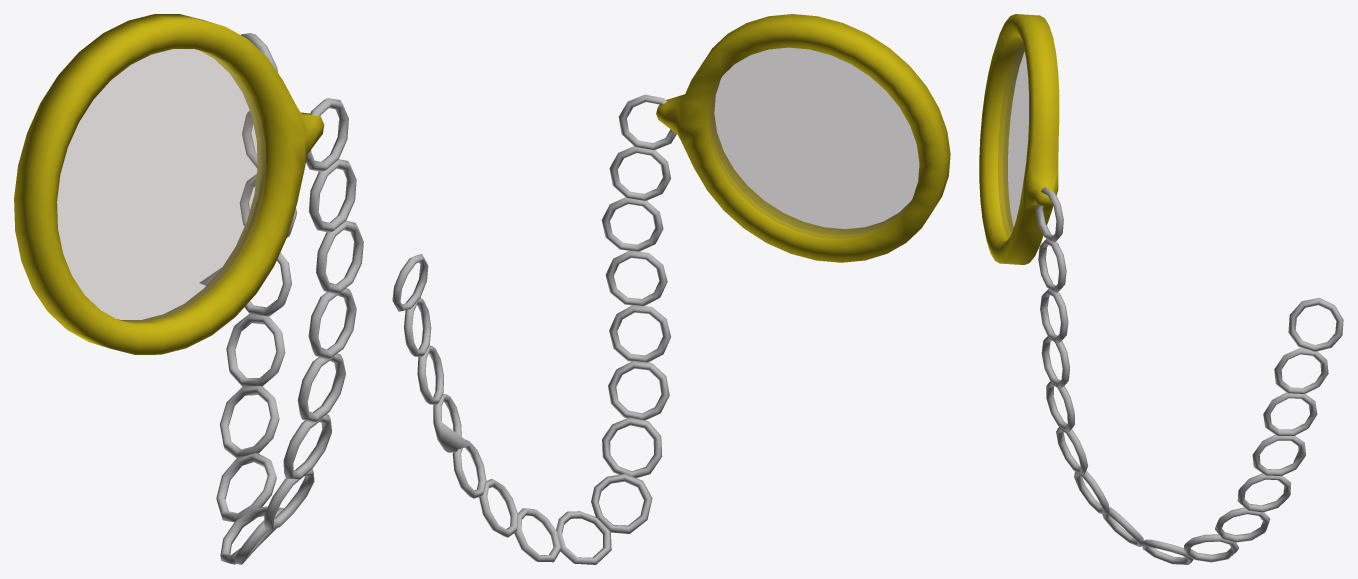
The picture shows the model from 3 angles, left to right: view 1: azimuth 30°, elevation 25°; view 2: azimuth 150°, elevation 25°; view 3: azimuth 270°, elevation 25°; orthographic projection. The views are drawn at different scales.
Visible parts, largest first — view 1: glassesMonocel; view 2: glassesMonocel; view 3: glassesMonocel.
Boxes of the visible parts, x1,y1,x2,y2 form: glassesMonocel: [14, 14, 363, 564]; glassesMonocel: [392, 14, 950, 564]; glassesMonocel: [979, 14, 1343, 564].
Bounding box in the file's own units: 0.2158 × 0.289 × 0.2003.
3 materials, 2 textured.
